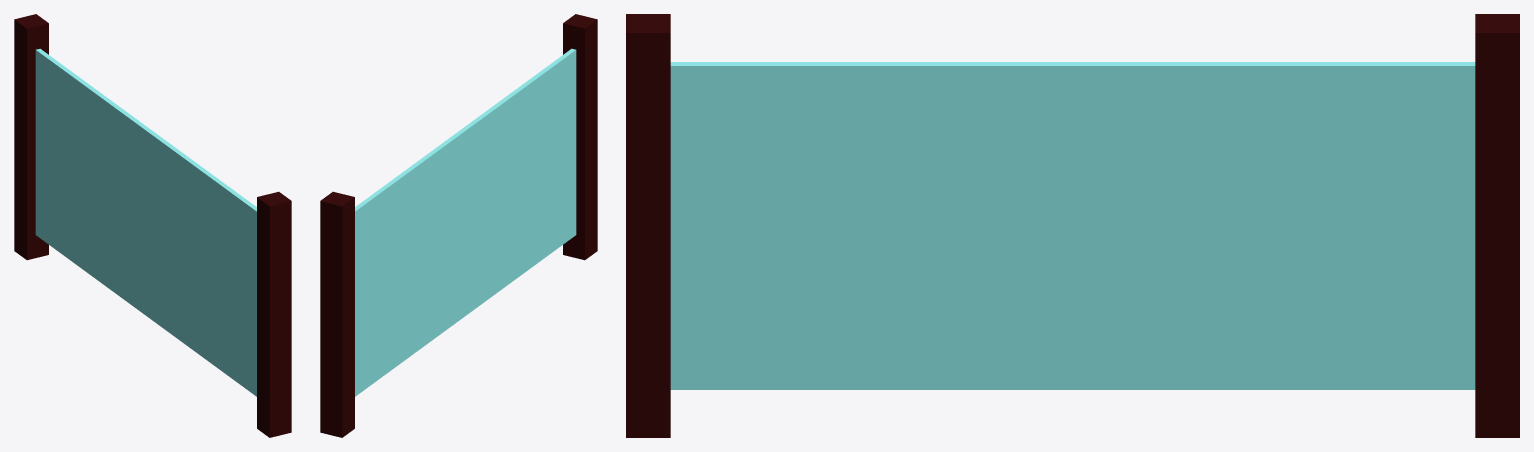
The model's file is Barrier.fbx.
3 views of the same model, side by side, from view 1: azimuth 30°, elevation 25°; view 2: azimuth 150°, elevation 25°; view 3: azimuth 270°, elevation 25° (orthographic). The views are drawn at different scales.
Visible parts, largest first — view 1: Barrier; view 2: Barrier; view 3: Barrier.
Boxes of the visible parts, x1,y1,x2,y2 form: Barrier: [14, 14, 291, 437]; Barrier: [320, 14, 597, 437]; Barrier: [626, 14, 1519, 437].
Size of the model in its own units: 0.05 by 0.5 by 1.
